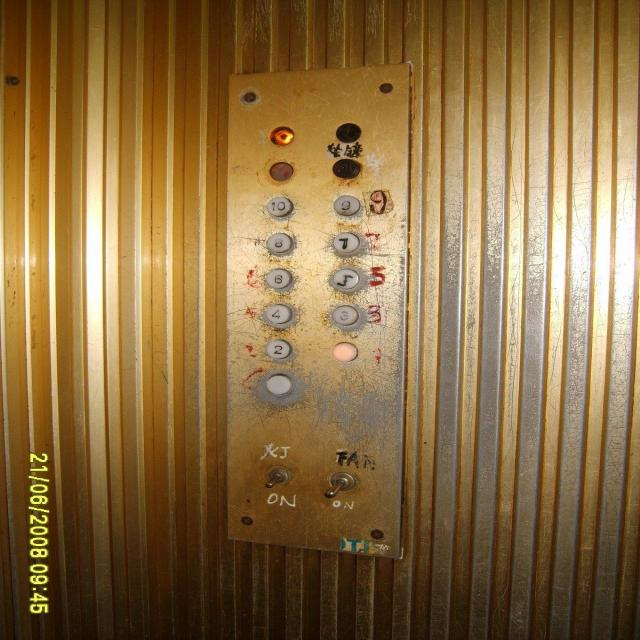10: (267, 197, 292, 216)
2: (262, 338, 292, 360)
4: (265, 302, 293, 324)
5: (334, 269, 359, 289)
6: (265, 268, 292, 289)
7: (333, 232, 360, 252)
8: (266, 232, 293, 254)
9: (332, 195, 360, 216)
G: (330, 304, 359, 326)
empty: (264, 372, 294, 396), (334, 120, 363, 144), (330, 340, 359, 363), (265, 160, 295, 182)
indicator: (328, 157, 363, 181), (270, 126, 294, 146)
switch: (259, 460, 294, 490), (322, 469, 357, 498)
